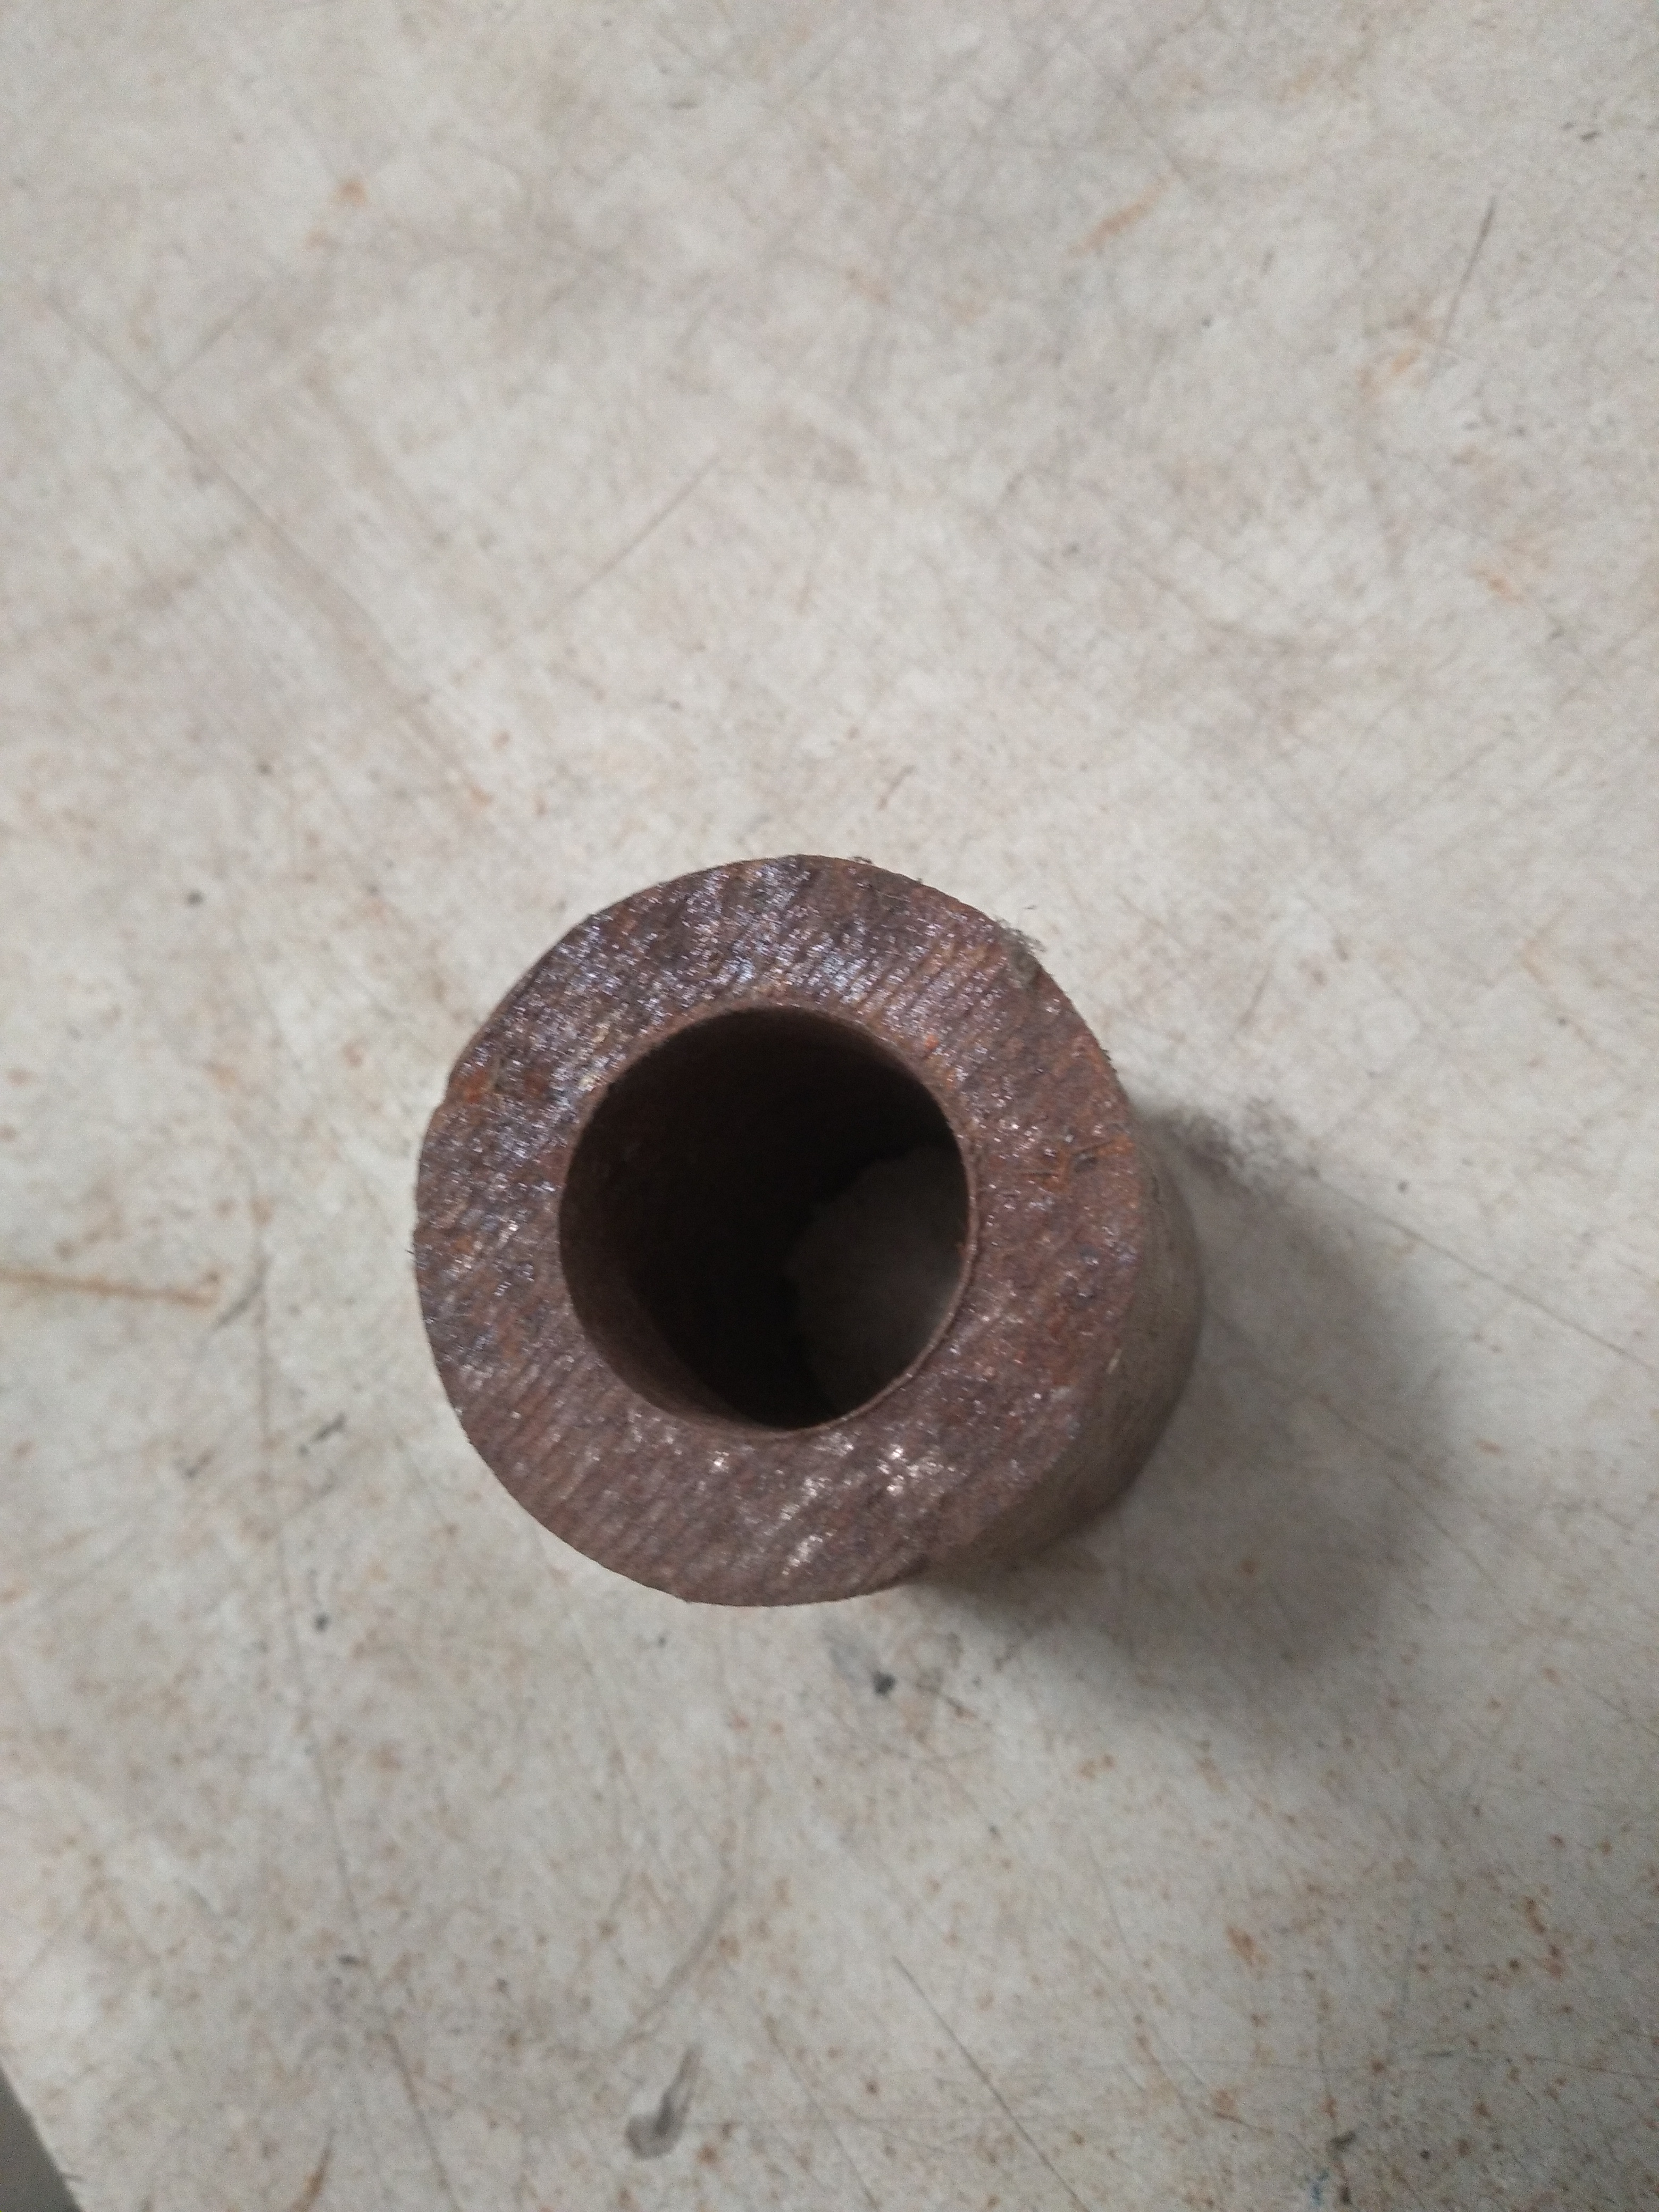No thread: (551, 968, 1033, 1500)
